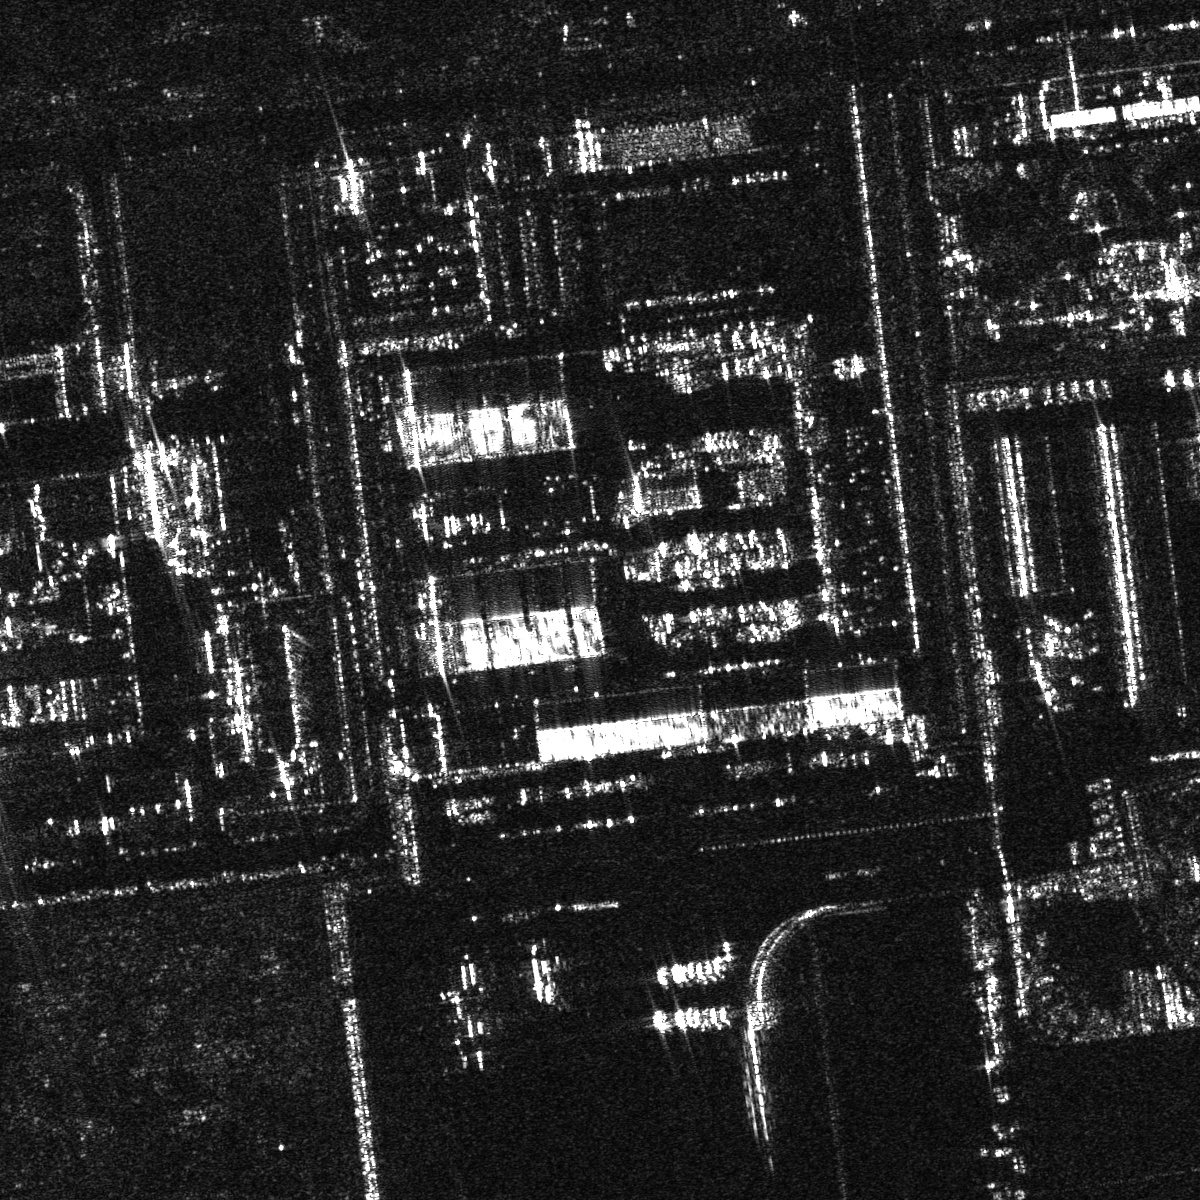Boeing787: (514, 942, 573, 1005)
other: (418, 977, 495, 1071)
